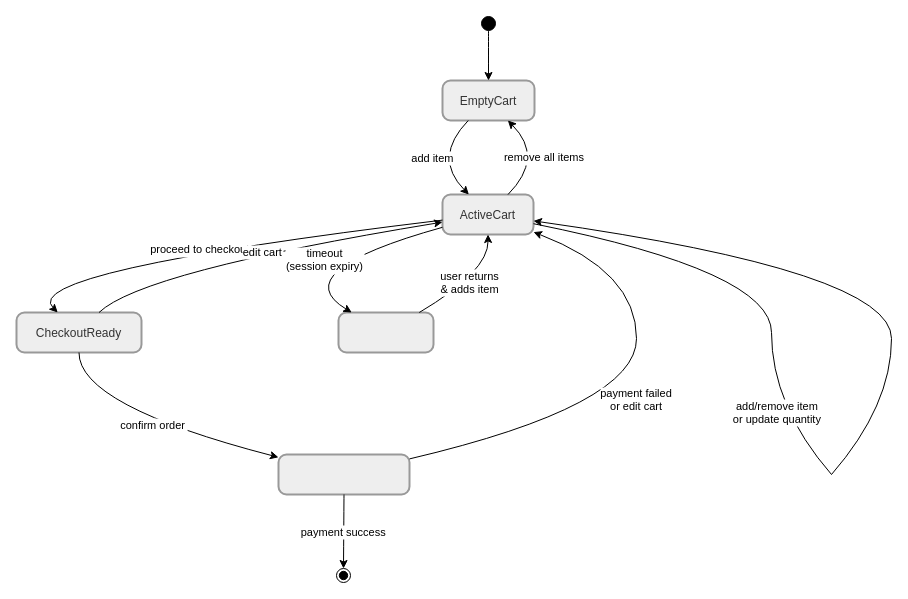
Some shapes in this 908 by 599 pixel diagram are drawn without their labels. Here are the shapes that lost their labels. From the top down, the centre of each, then its label:
At (x=385, y=332): "Abandoned".
At (x=343, y=474): "WaitingPayment".
